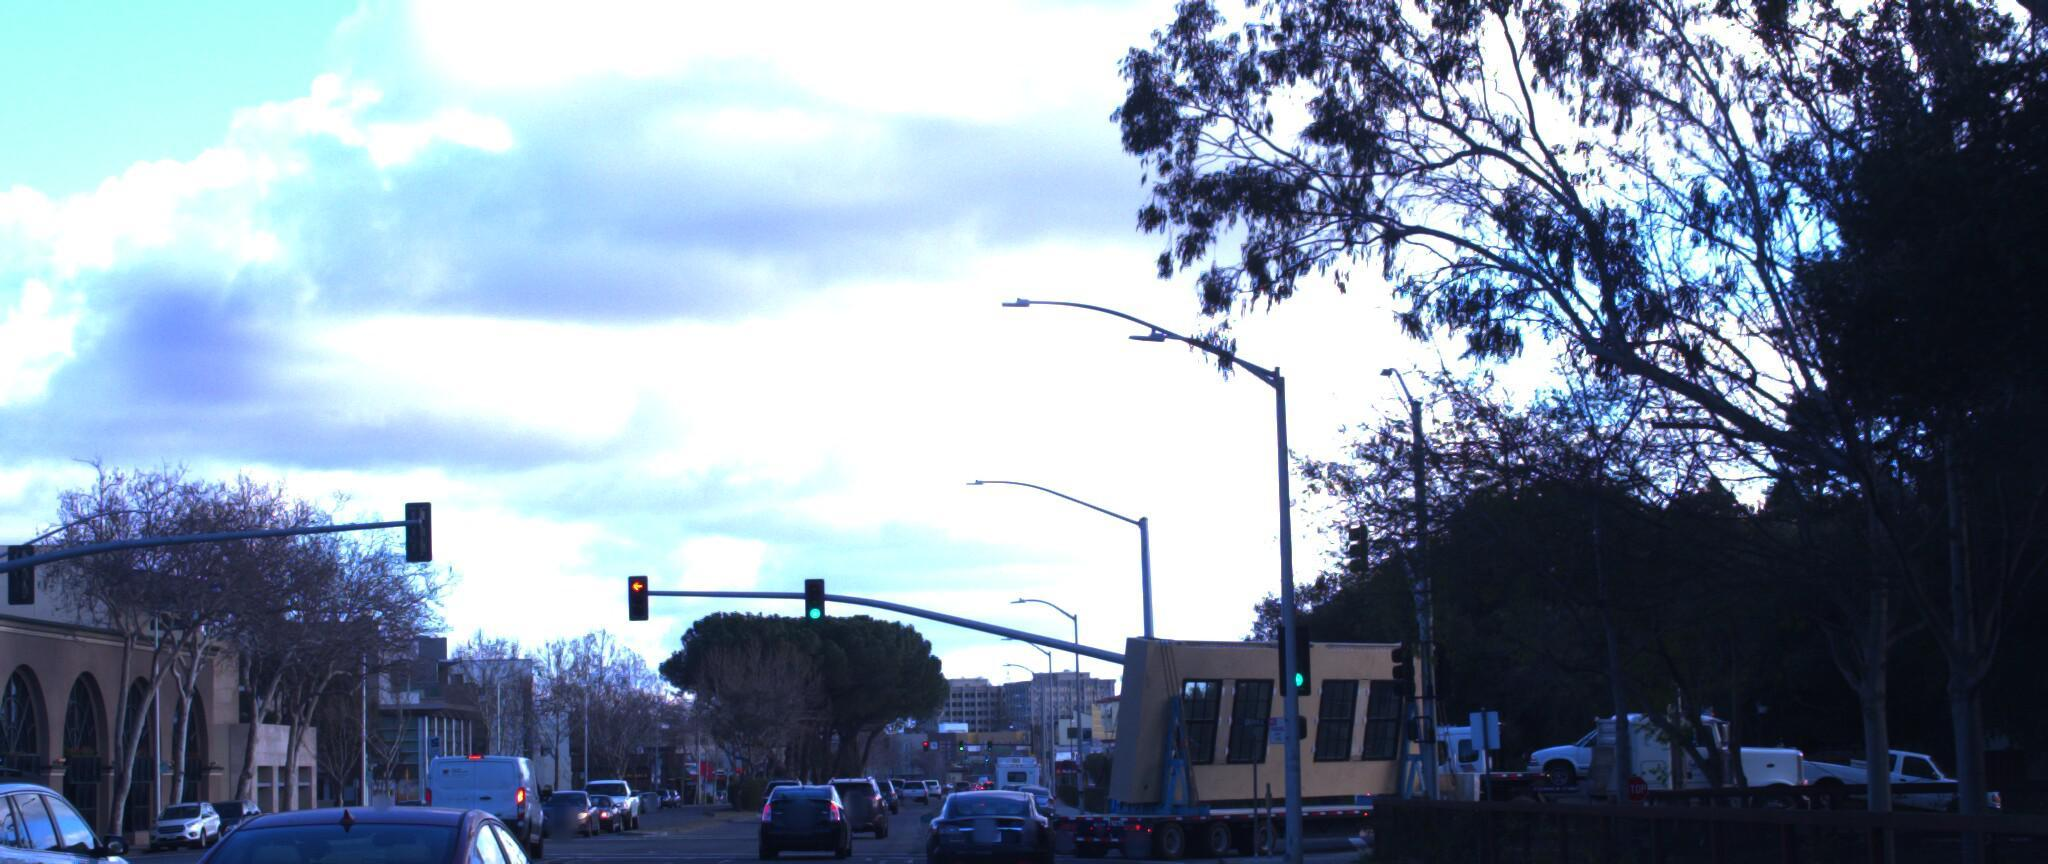car: (129, 770, 603, 864), (0, 737, 184, 864), (1776, 724, 1993, 814), (1512, 697, 1735, 770), (421, 730, 556, 846), (913, 769, 1040, 864), (759, 760, 858, 841)
other_vehicle: (1038, 600, 1608, 837)
truck: (1334, 694, 1778, 814), (1574, 681, 1860, 814)
